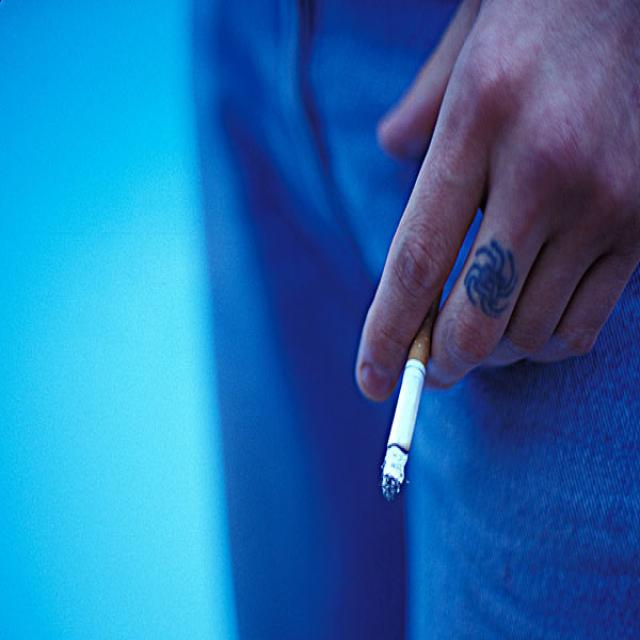smoking: (379, 274, 446, 499)
